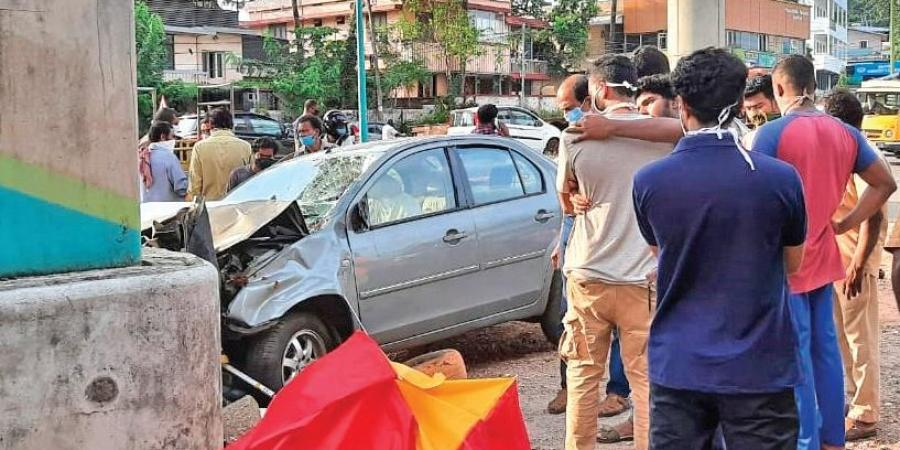accident: (108, 143, 557, 440)
